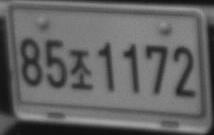1: (95, 41, 120, 91), (121, 43, 145, 93)
2: (173, 45, 196, 97)
5: (44, 39, 67, 88)
7: (146, 44, 167, 95)
8: (19, 37, 43, 86)
조: (69, 49, 93, 89)
